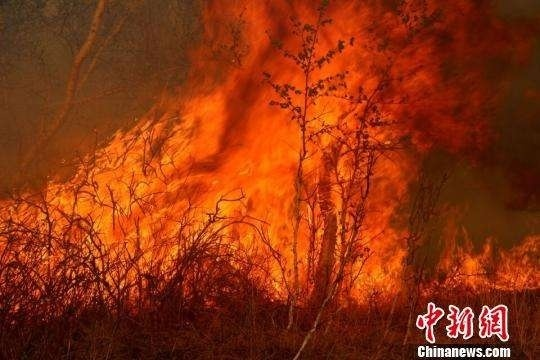fire: (27, 16, 491, 312)
